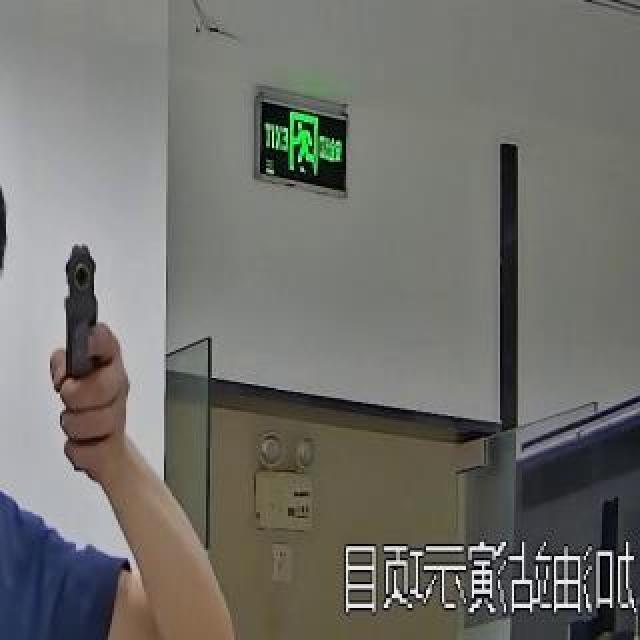Guns: (29, 201, 150, 485)
